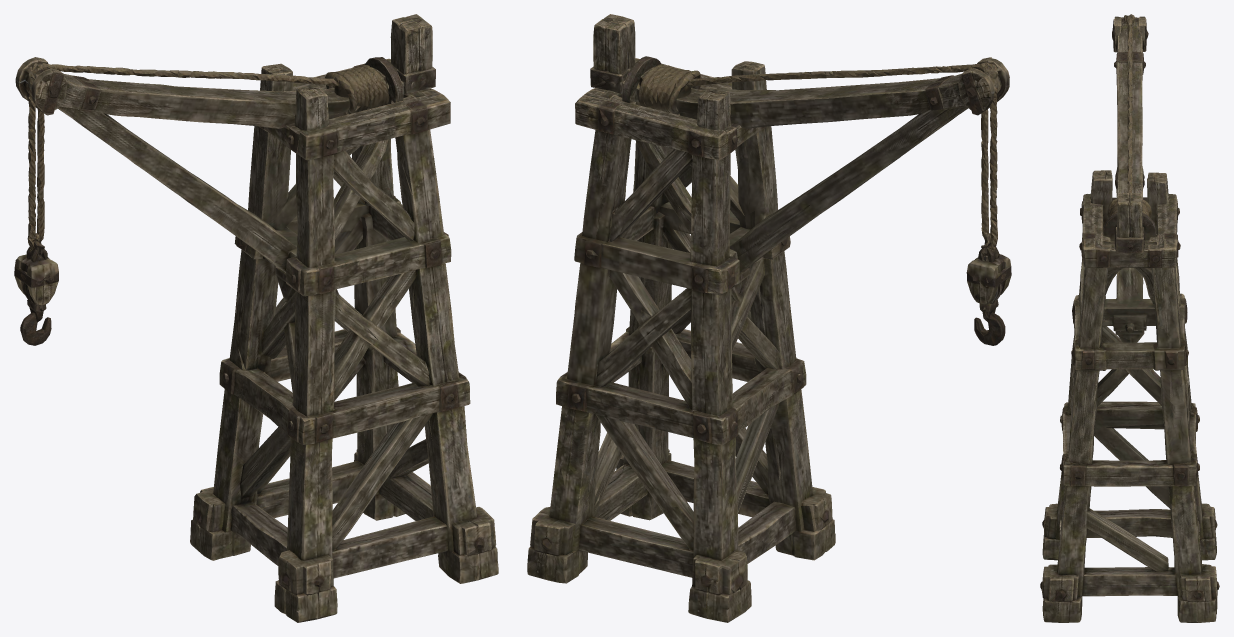
The model's file is dock_crane.glb.
3 views of the same model, side by side, from view 1: azimuth 30°, elevation 25°; view 2: azimuth 150°, elevation 25°; view 3: azimuth 270°, elevation 25° (orthographic). The views are drawn at different scales.
Parts seen in each view (by area): view 1: dock_crane; view 2: dock_crane; view 3: dock_crane.
Boxes of the visible parts, x1=… form: dock_crane: x1=14, y1=14, x2=498, y2=622; dock_crane: x1=527, y1=14, x2=1011, y2=622; dock_crane: x1=1040, y1=14, x2=1219, y2=622.
Size of the model in its own units: 1.49 by 1.9 by 0.6856.
1 material, 1 textured.
